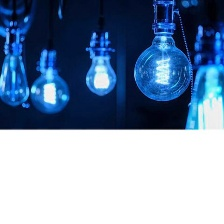light_bulb: (127, 16, 194, 103), (179, 56, 223, 158), (26, 61, 74, 116), (0, 39, 31, 109), (81, 45, 119, 98)
